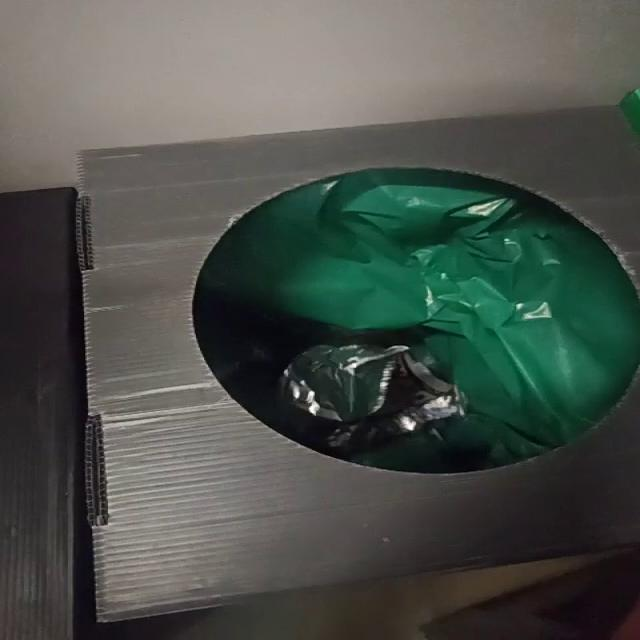Bin: (76, 106, 639, 622)
Metal: (280, 345, 453, 422)
